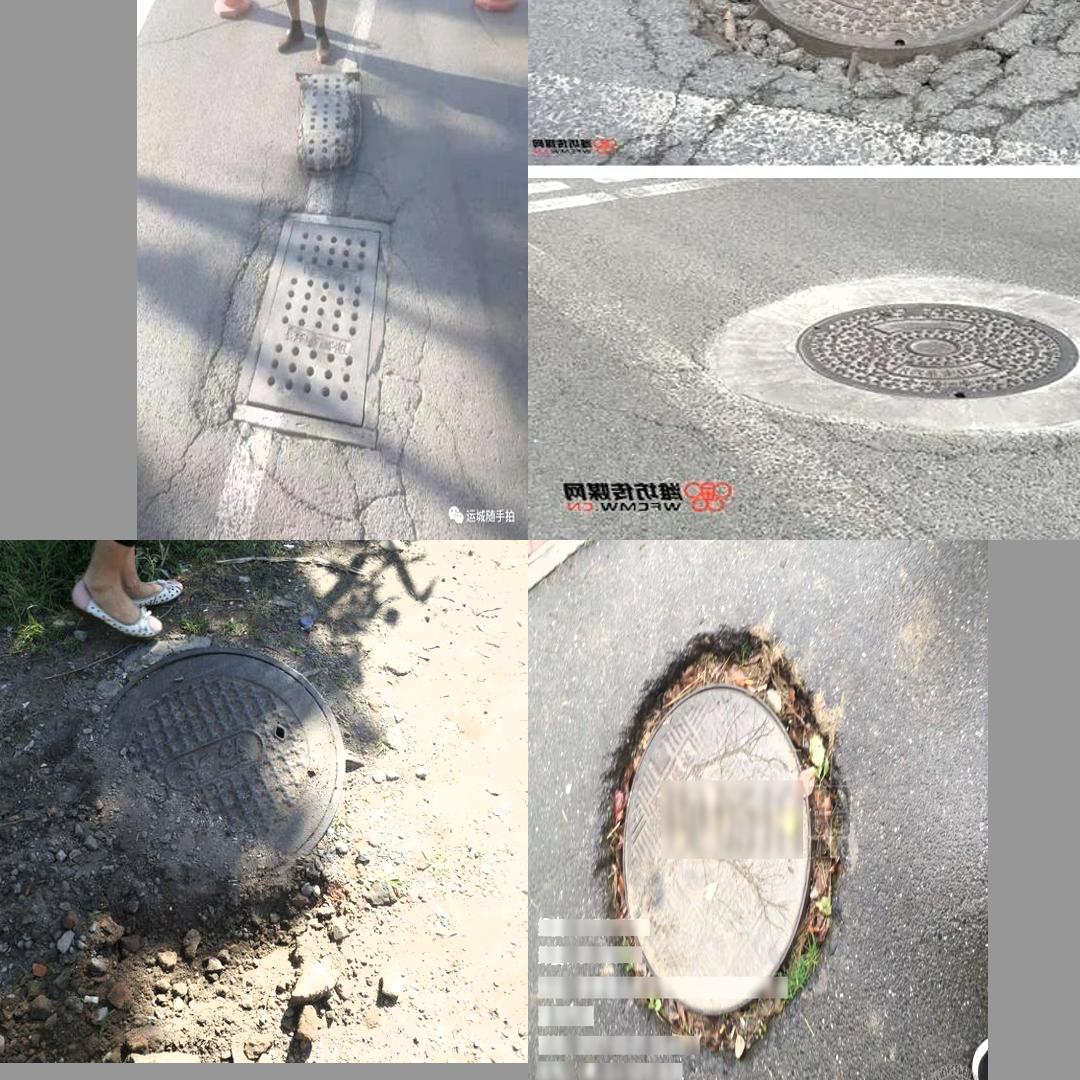circle: (592, 631, 850, 1053), (31, 639, 409, 925), (188, 183, 439, 514), (629, 0, 1080, 117)
